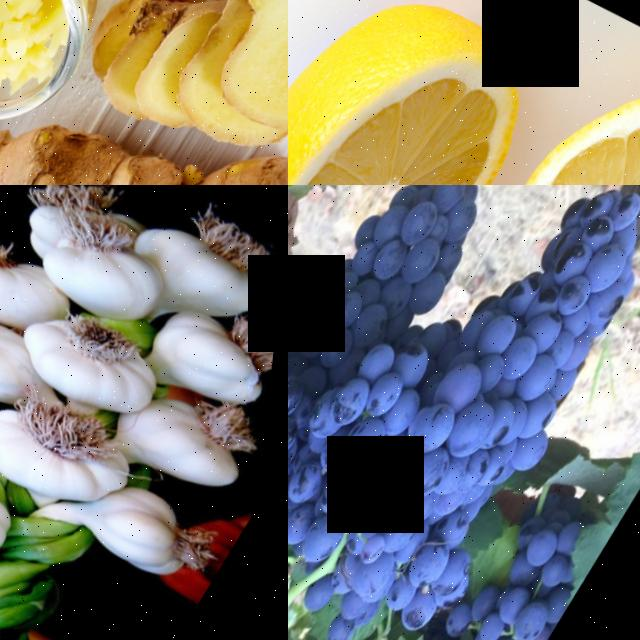garlic: (9, 298, 181, 431), (117, 207, 288, 335), (118, 387, 276, 516), (0, 384, 140, 525), (32, 220, 185, 342), (78, 473, 228, 596), (139, 301, 284, 425), (0, 238, 81, 351)
ginger: (0, 36, 288, 185)
grapes: (318, 185, 640, 639), (288, 311, 466, 590), (295, 185, 527, 369), (446, 509, 619, 640), (288, 279, 349, 550)
lemon: (288, 0, 531, 185), (442, 45, 640, 185)
